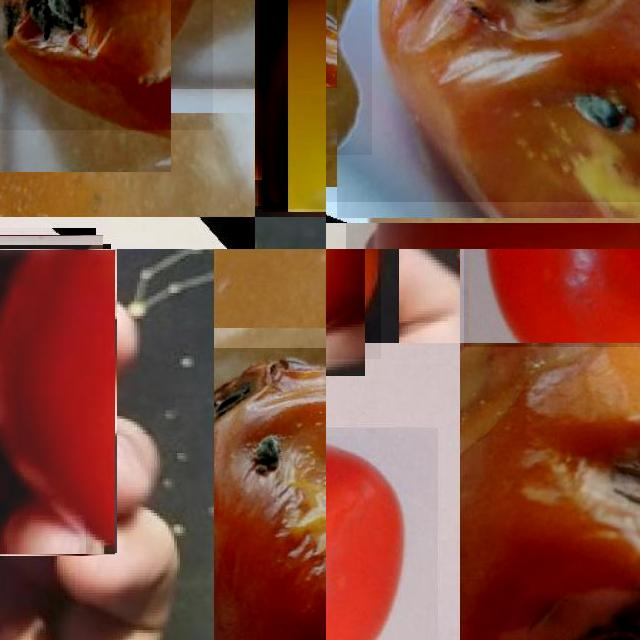0: (326, 427, 438, 640), (464, 249, 640, 347)
1: (460, 343, 640, 640)
Fresh Tomato: (0, 249, 115, 554)
Rotten Tomato: (326, 0, 640, 202), (214, 348, 326, 640), (0, 0, 213, 130)
